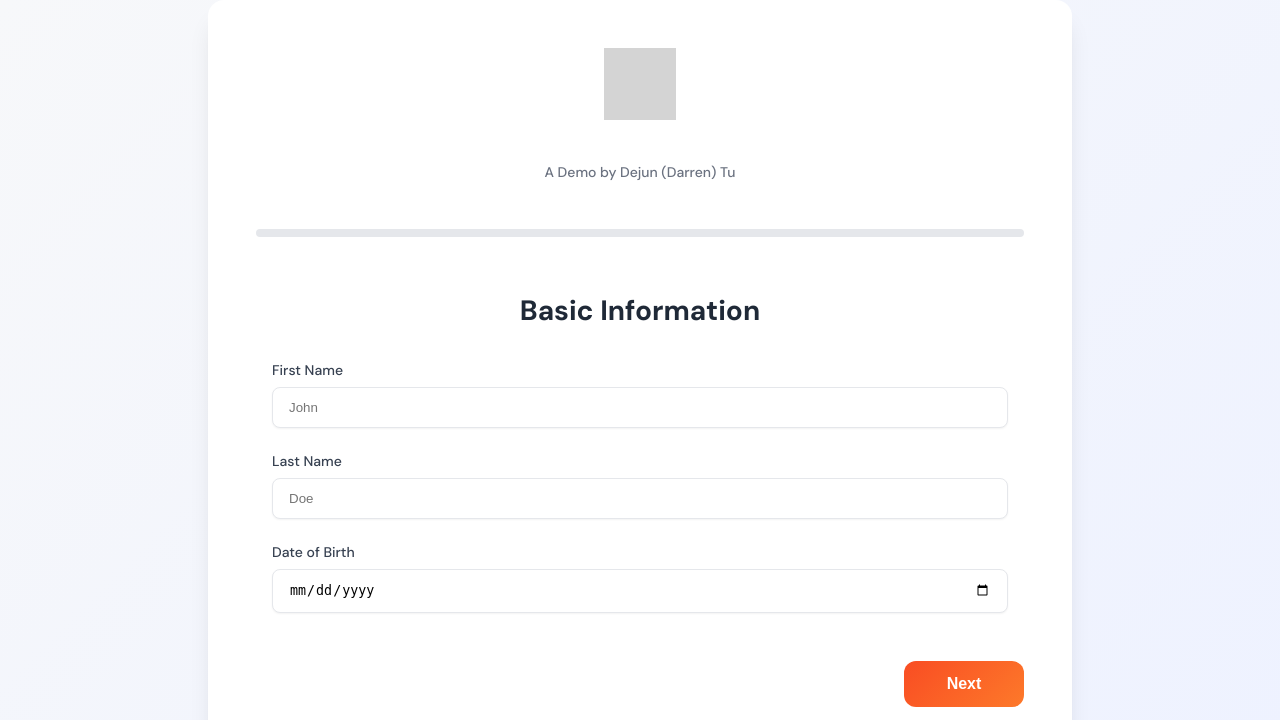
it: App Component Workflow › should show validation errors
This screenshot has width=1280, height=720.
Click the button "Next" at {"x": 964, "y": 684}, box [904,661,1024,707]
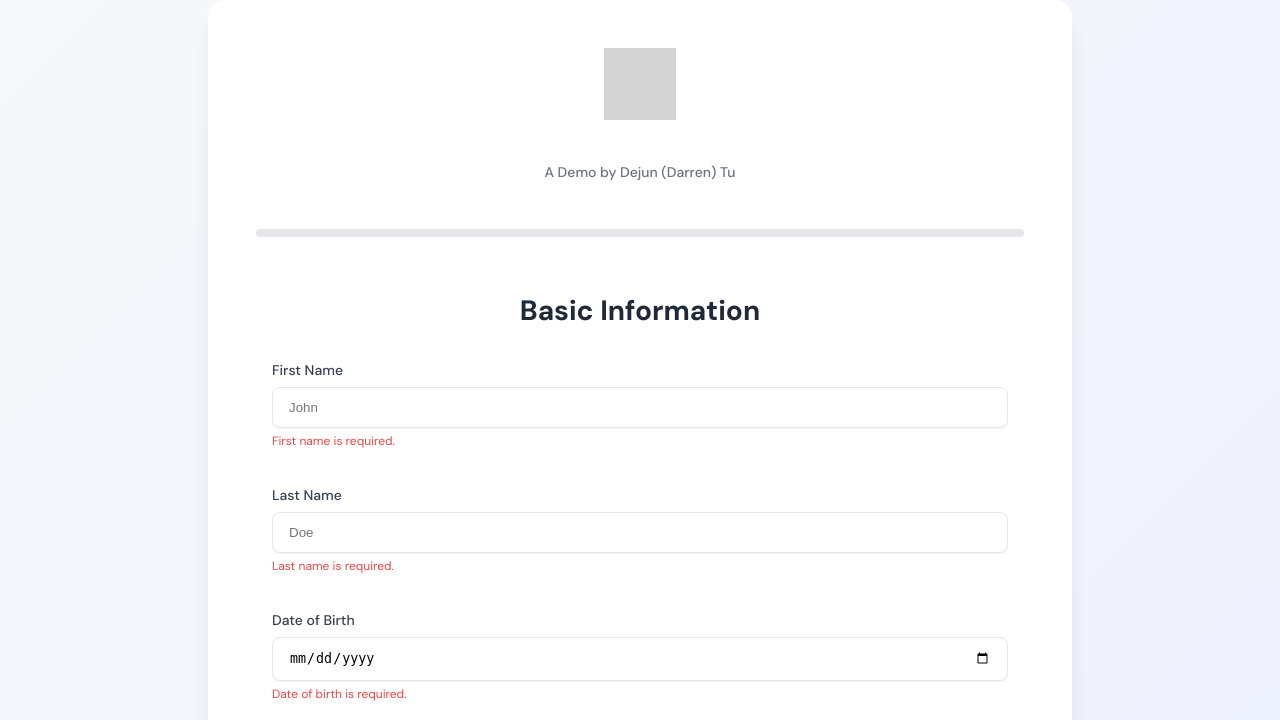
Result: the text "First name is required." is shown at [272,433,395,449]
Result: the text "Last name is required." is shown at [272,558,394,574]
Result: the text "Date of birth is required." is shown at [272,686,406,702]
